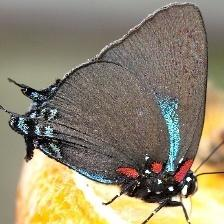butterfly: (0, 3, 208, 207)
